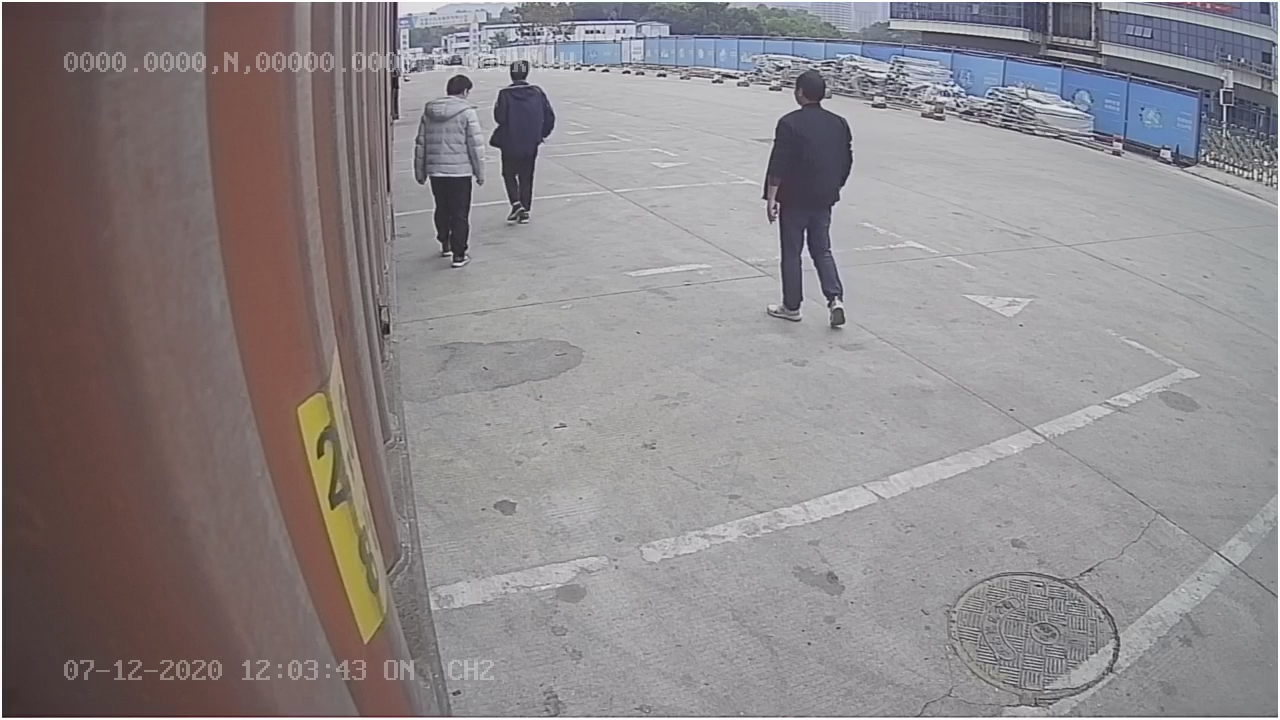person: (758, 66, 852, 329)
